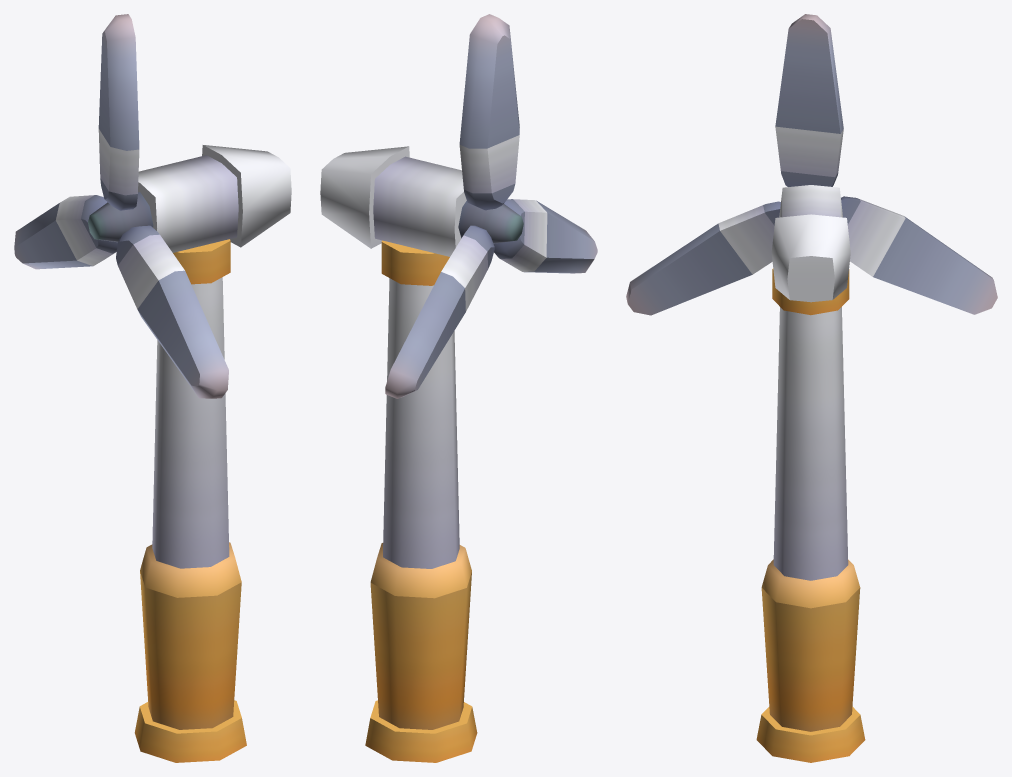
Rendered from ind_windmill.glb.
3 views of the same model, side by side, from view 1: azimuth 30°, elevation 25°; view 2: azimuth 150°, elevation 25°; view 3: azimuth 270°, elevation 25° (orthographic). The views are drawn at different scales.
Parts seen in each view (by area): view 1: windmill; view 2: windmill; view 3: windmill.
Part boxes in pixels (x1,y1,x2,y2): windmill: (14,14,291,762); windmill: (320,14,597,762); windmill: (626,14,997,762).
Bounding box in the file's own units: 0.6047 × 2.31 × 1.13.
1 material, 1 textured.
